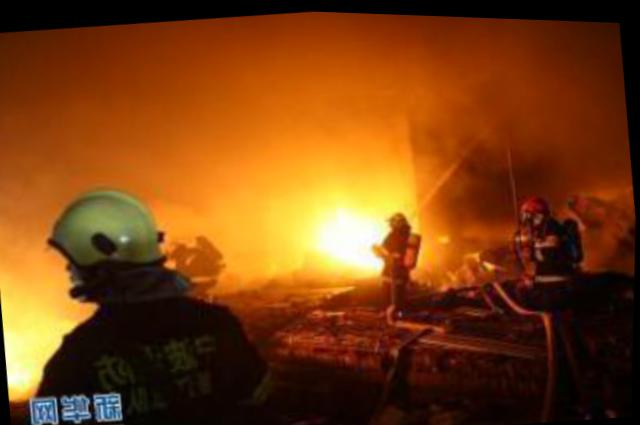fire: (296, 185, 400, 281), (0, 269, 71, 393)
